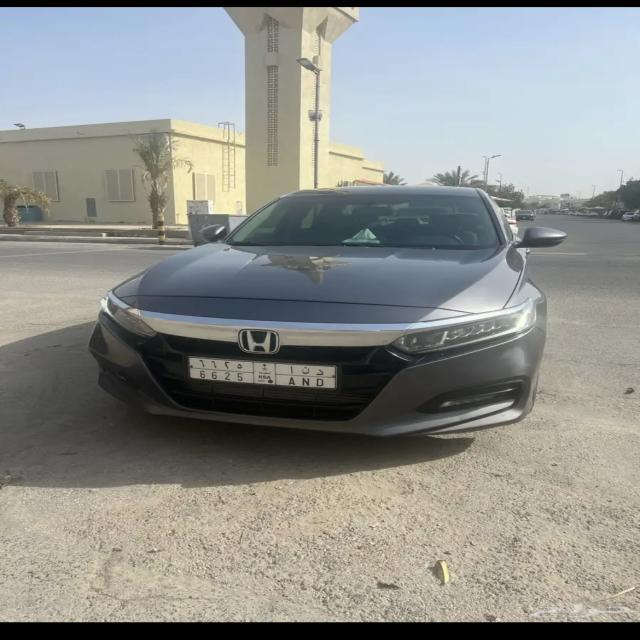license_plate: (188, 355, 339, 392)
